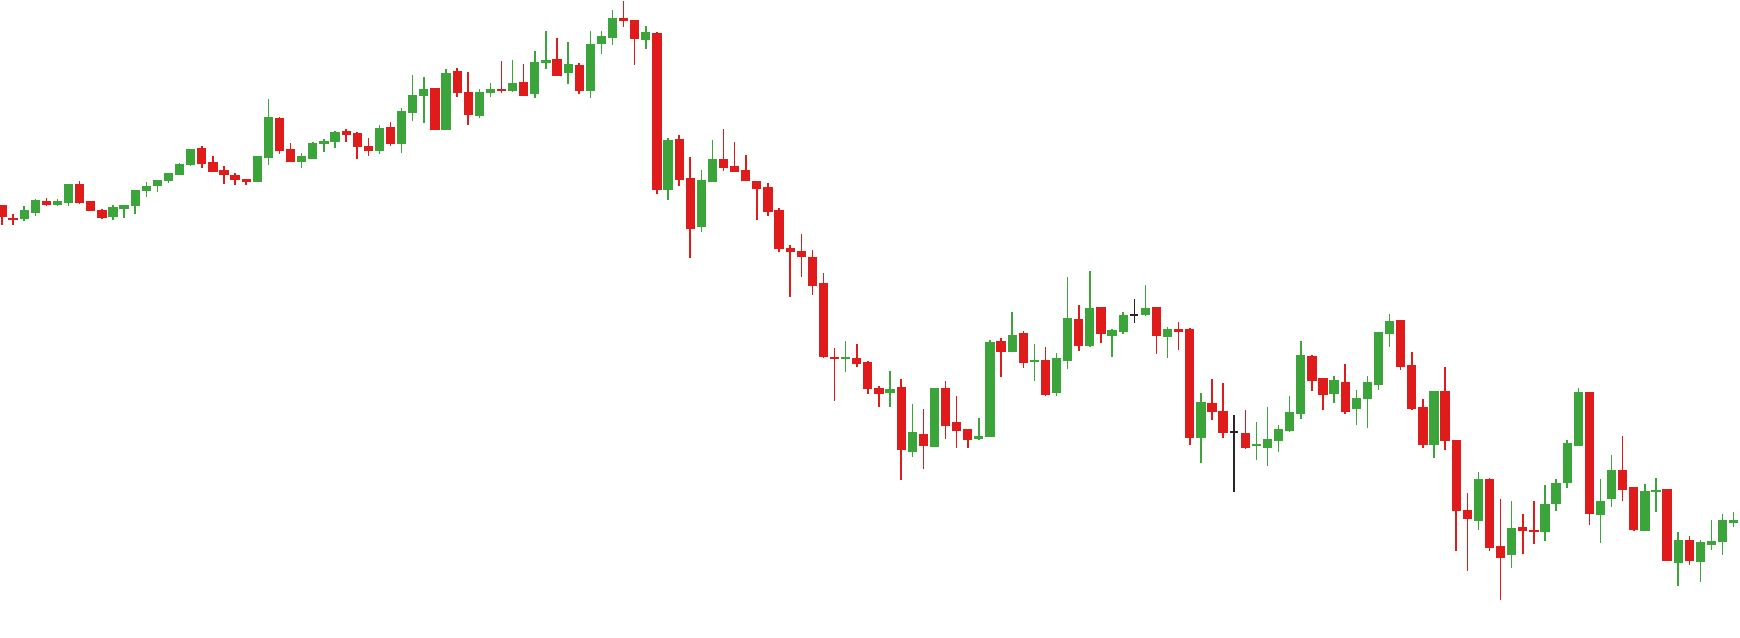sell: (1291, 312, 1409, 388), (542, 3, 639, 73)
